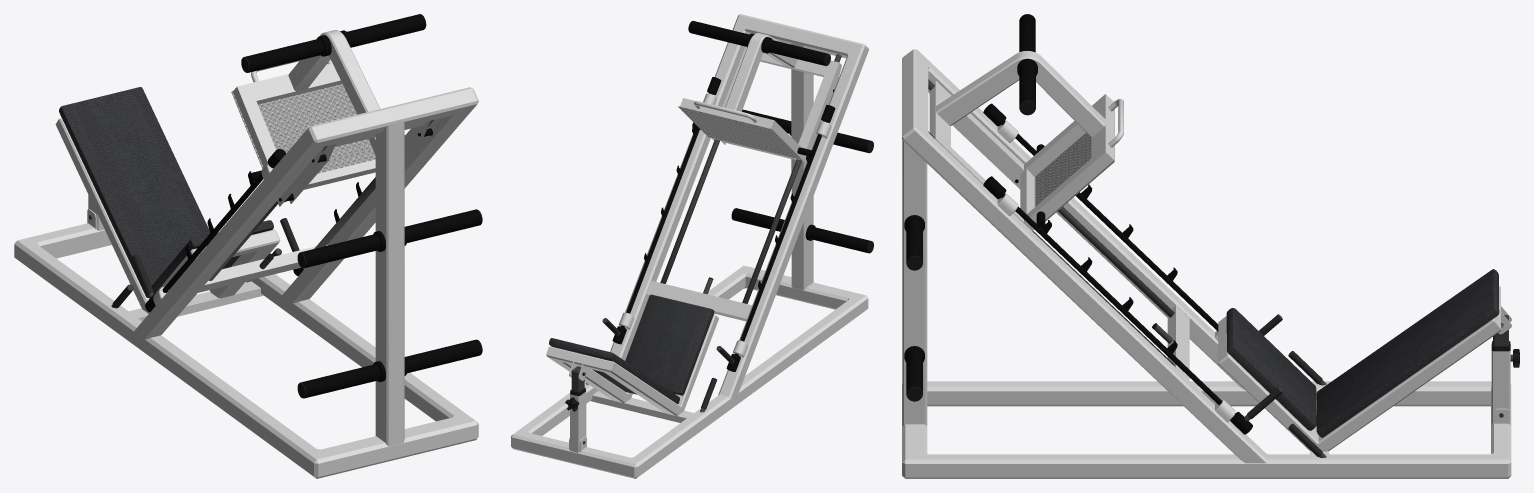
Rendered from Trainer_8.FBX.
3 views of the same model, side by side, from view 1: azimuth 30°, elevation 25°; view 2: azimuth 150°, elevation 25°; view 3: azimuth 270°, elevation 25° (orthographic). The views are drawn at different scales.
Visible parts, largest first — view 1: Trainer, 3, 4, 5, 6, 2; view 2: Trainer, 3, 4, 2, 6, 1, 5; view 3: Trainer, 3, 1, 2, 4, 6, 5.
Boxes of the visible parts, box(x1,y1,x2,y2) form: Trainer: box(14, 87, 478, 478); 3: box(231, 30, 441, 206); 4: box(241, 14, 426, 72); 5: box(297, 209, 482, 268); 6: box(297, 339, 482, 398); 2: box(132, 149, 285, 312); Trainer: box(511, 14, 869, 478); 3: box(678, 32, 841, 163); 4: box(688, 21, 830, 65); 2: box(716, 105, 835, 371); 6: box(731, 208, 873, 253); 1: box(602, 77, 721, 344); 5: box(742, 109, 873, 153); Trainer: box(902, 49, 1519, 478); 3: box(928, 51, 1123, 231); 1: box(983, 176, 1282, 434); 2: box(983, 103, 1282, 335); 4: box(1017, 14, 1037, 115); 6: box(904, 346, 924, 401); 5: box(904, 215, 924, 270).
Size of the model in its own units: 0.6306 by 1.89 by 1.3.
